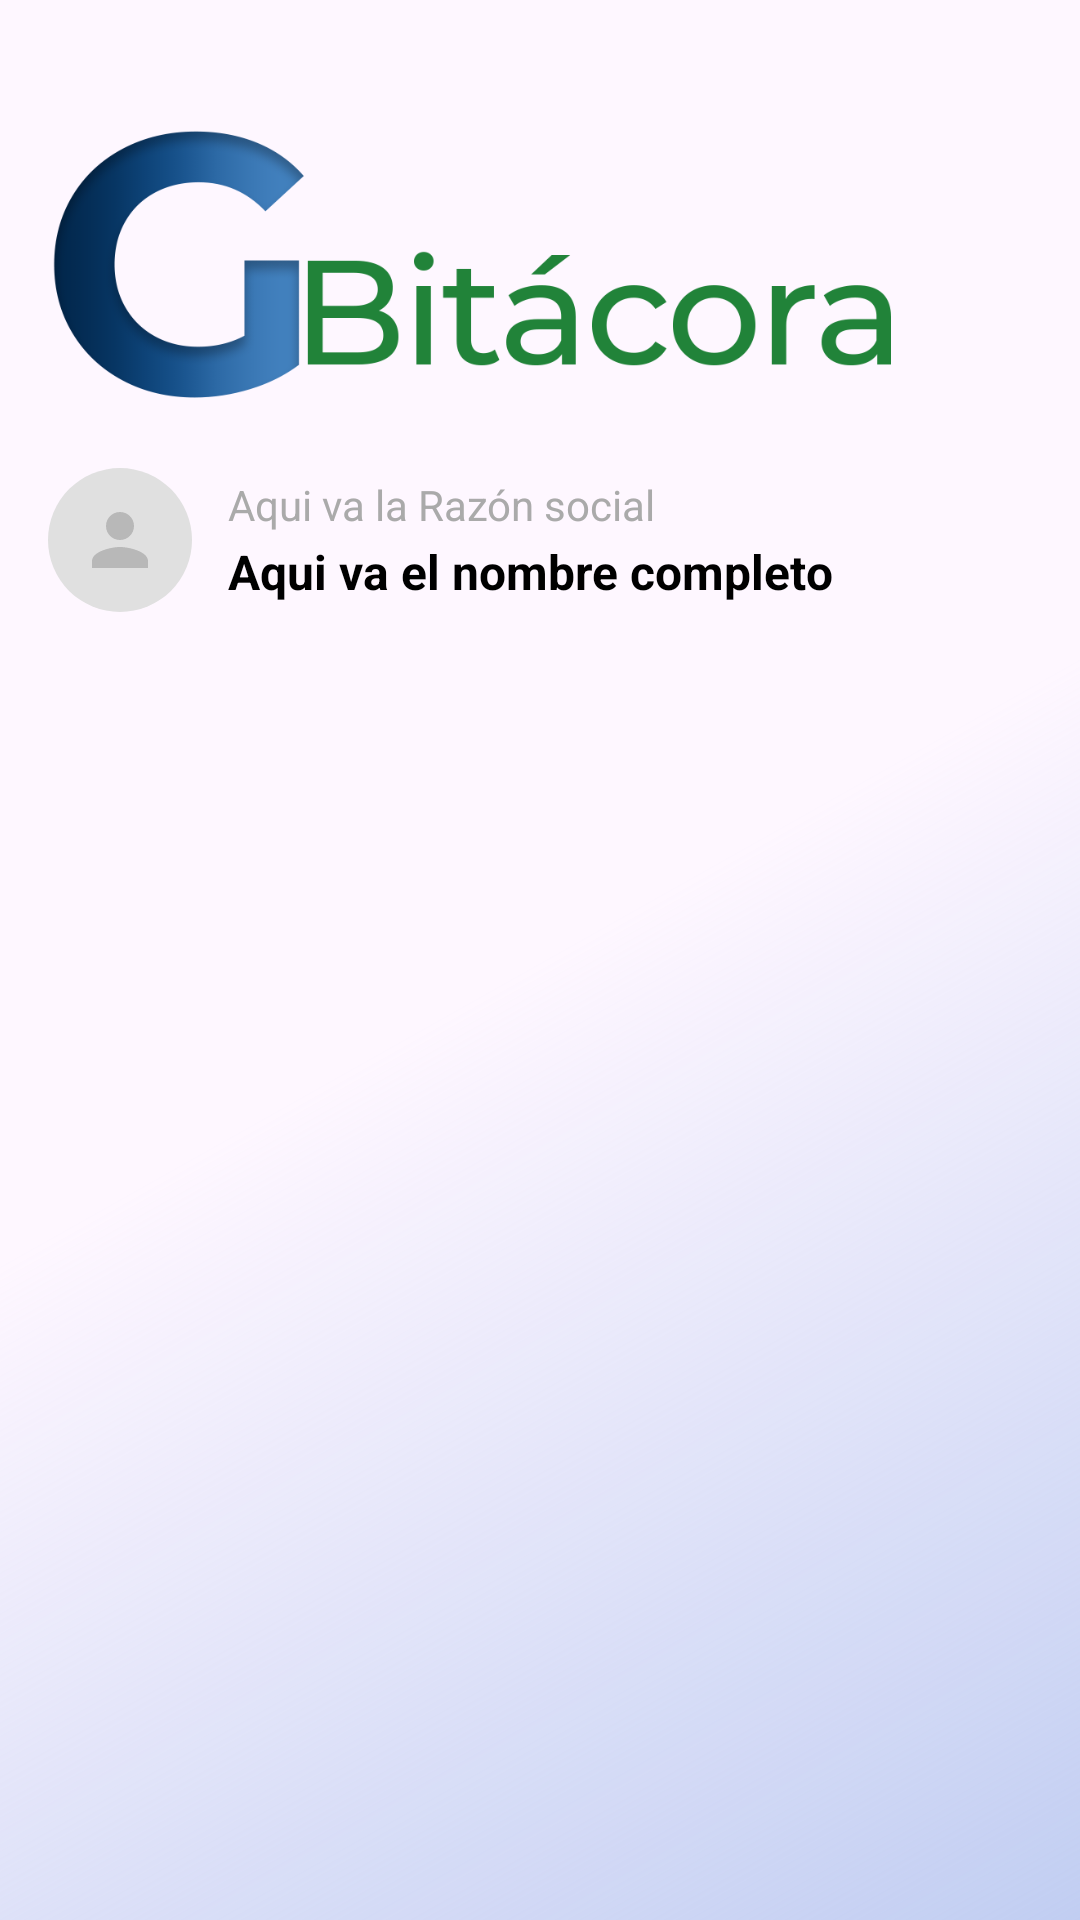

Named icons in this screenshot (1080*1920) and their bounding boxes, (x1, y1, x2, y2):
user: (48, 468, 192, 612)
